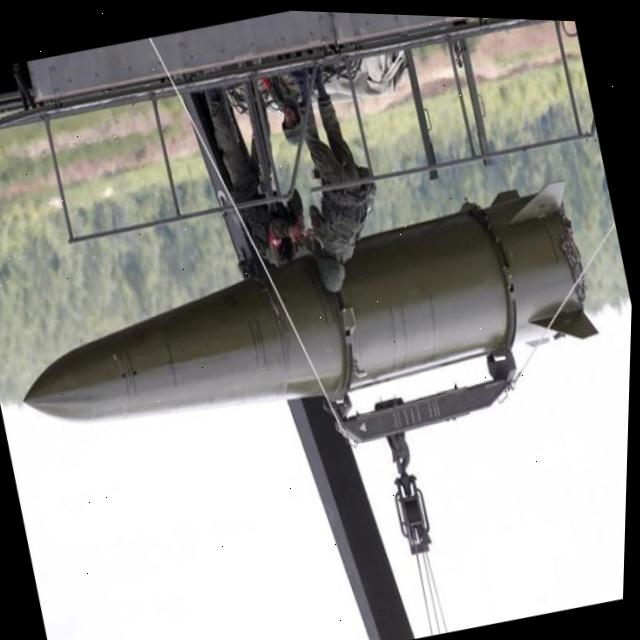missile: (0, 141, 618, 516)
